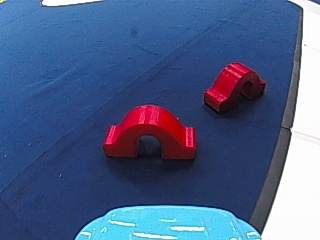bridge: (103, 100, 197, 162), (200, 60, 266, 114)
